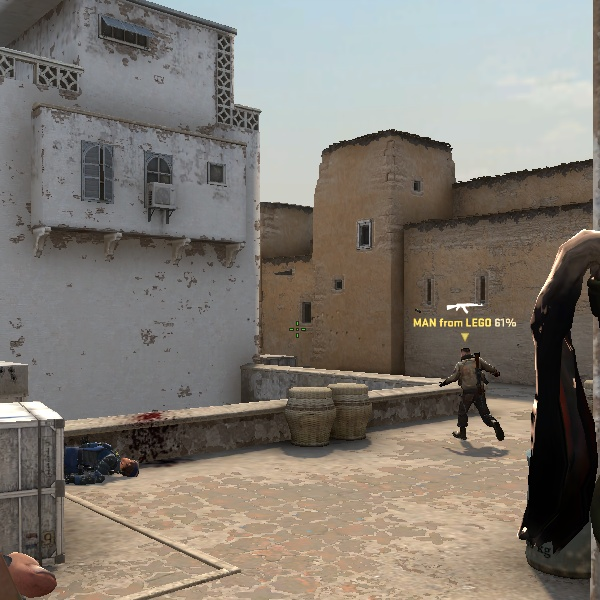t_body: (446, 347, 505, 441)
t_head: (461, 347, 471, 362)
